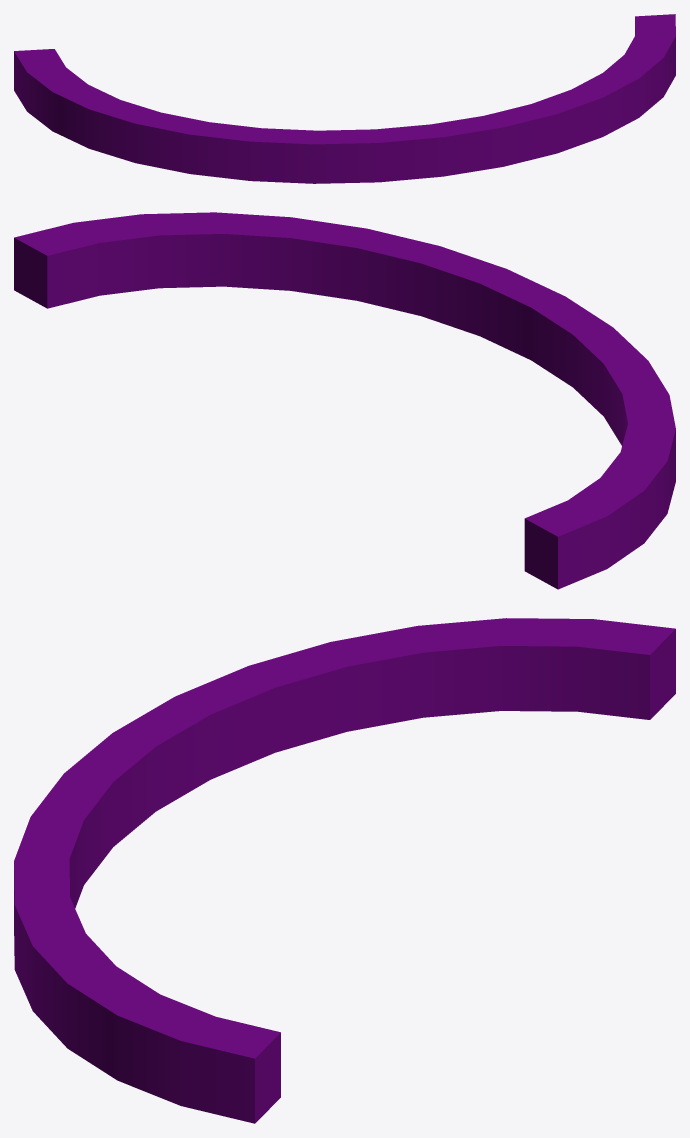
The model's file is onion.fbx.
3 views of the same model, one above another, from view 1: azimuth 30°, elevation 25°; view 2: azimuth 150°, elevation 25°; view 3: azimuth 270°, elevation 25° (orthographic). The views are drawn at different scales.
Visible parts, largest first — view 1: onion; view 2: onion; view 3: onion.
Boxes of the visible parts, left/top/right/bottom form: onion: left=14, top=14, right=675, bottom=183; onion: left=14, top=212, right=675, bottom=589; onion: left=14, top=618, right=675, bottom=1123.
Size of the model in its own units: 251 by 17.28 by 159.
